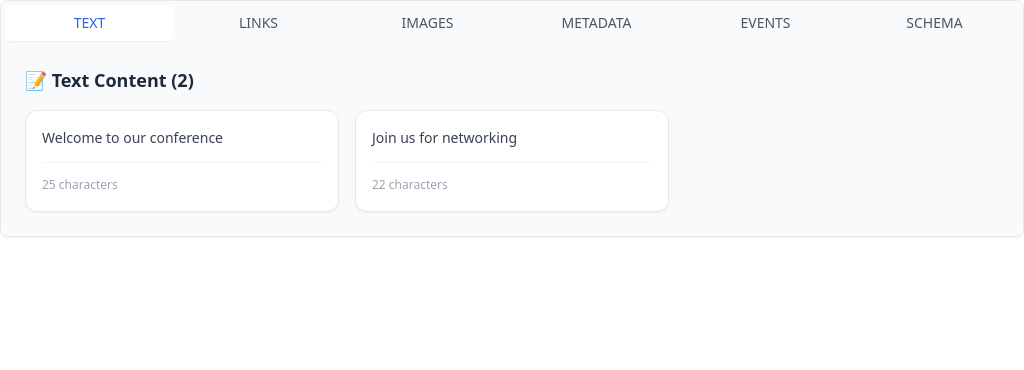
Test: ScrapeResultTabs with Schema.org Data › Events Tab › renders events with schema.org data correctly
// Switch to events tab
Click the button "EVENTS": (766, 23) 681,5 -> 850,41
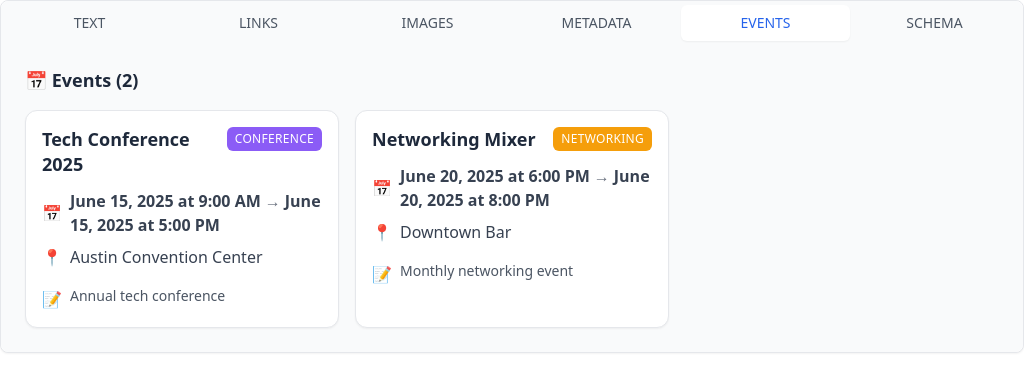
Expected: the heading "Tech Conference 2025" is shown, 42,127 -> 215,176
Expected: the heading "Networking Mixer" is shown, 372,127 -> 536,152
Expected: the text "conference" is shown, 227,127 -> 322,151
